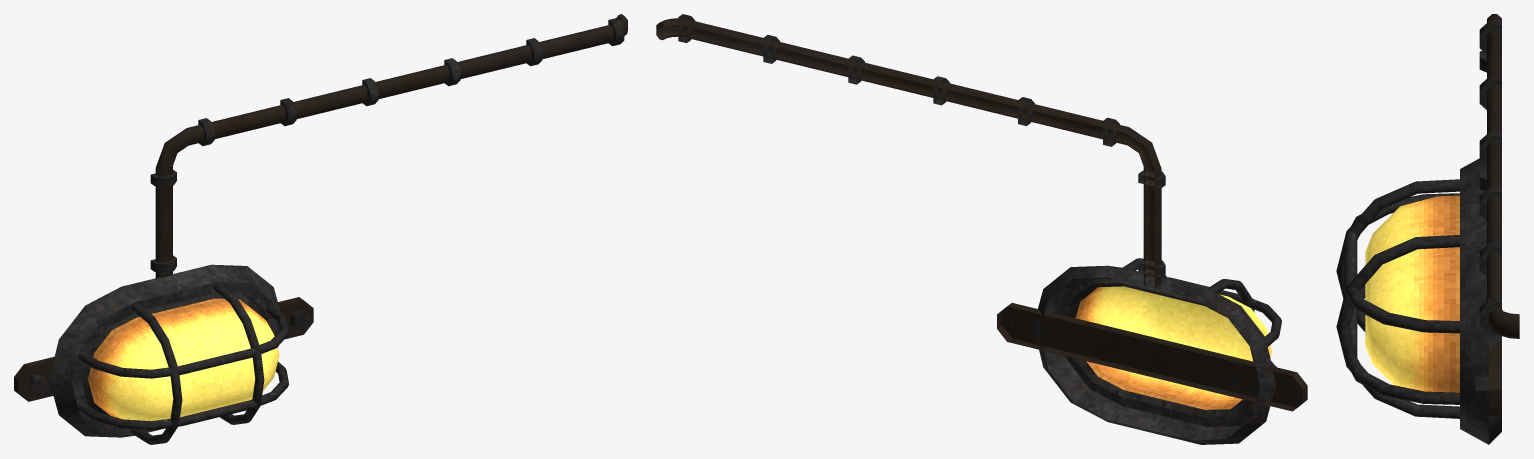
Rendered from lamp_1_on.glb.
The picture shows the model from 3 angles, left to right: view 1: azimuth 30°, elevation 25°; view 2: azimuth 150°, elevation 25°; view 3: azimuth 270°, elevation 25°; orthographic projection. The views are drawn at different scales.
Visible parts, largest first — view 1: lamp_1_on; view 2: lamp_1_on; view 3: lamp_1_on.
Boxes of the visible parts, box(x1,y1,x2,y2) form: lamp_1_on: box(14, 14, 627, 444); lamp_1_on: box(656, 14, 1307, 444); lamp_1_on: box(1336, 14, 1519, 444).
Bounding box in the file's own units: 0.7532 × 0.343 × 0.1393.
4 materials, 4 textured.
